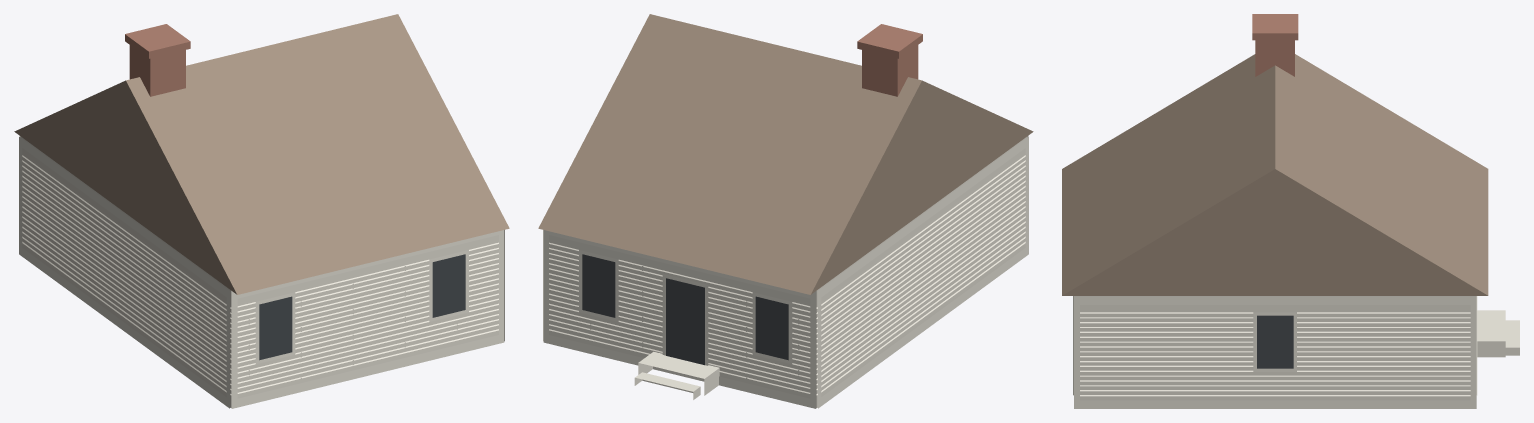
File: recon_1835_blk_randolph_wells_d4_04__inferred_1835.glb
3 renders of one model, left to right at view 1: azimuth 30°, elevation 25°; view 2: azimuth 150°, elevation 25°; view 3: azimuth 270°, elevation 25°, orthographic. The views are drawn at different scales.
Parts seen in each view (by area): view 1: recon_1835_blk_randolph_wells_d4_04__inferred_1835; view 2: recon_1835_blk_randolph_wells_d4_04__inferred_1835; view 3: recon_1835_blk_randolph_wells_d4_04__inferred_1835.
Boxes of the visible parts, x1,y1,x2,y2 form: recon_1835_blk_randolph_wells_d4_04__inferred_1835: (14,14,509,408); recon_1835_blk_randolph_wells_d4_04__inferred_1835: (538,14,1033,408); recon_1835_blk_randolph_wells_d4_04__inferred_1835: (1062,14,1519,408).
Size of the model in its own units: 6.47 by 6.4 by 9.73.
